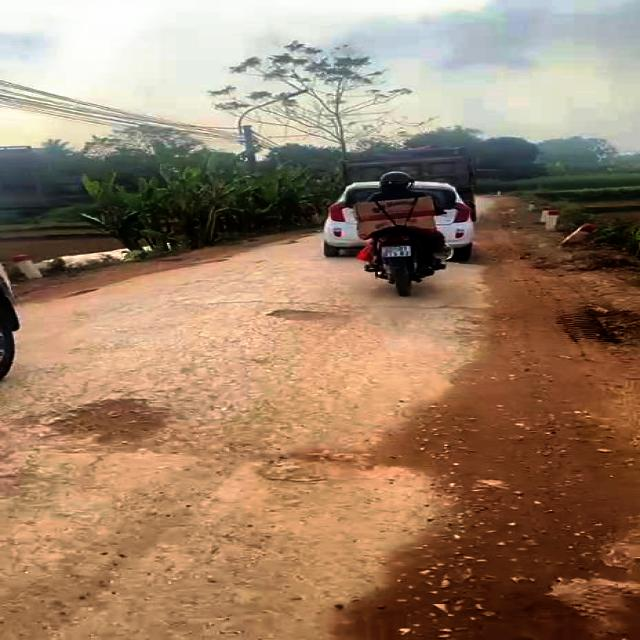pothole: (43, 399, 179, 456), (270, 305, 341, 328)
